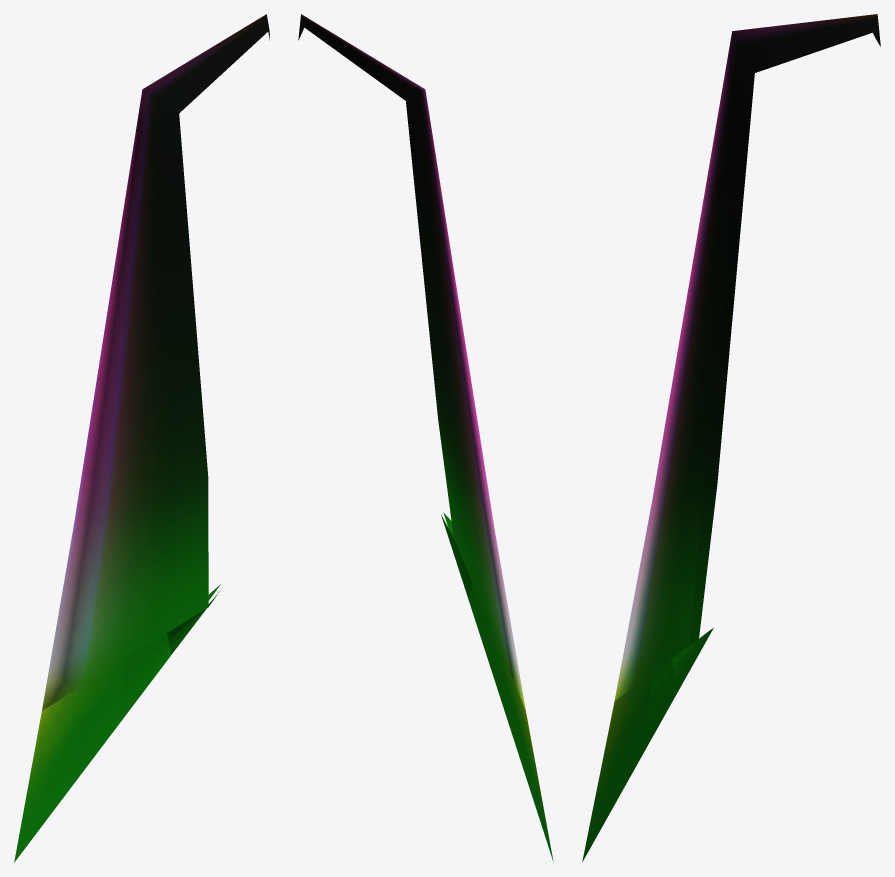
File: Trail7_3.fbx
The picture shows the model from 3 angles, left to right: view 1: azimuth 30°, elevation 25°; view 2: azimuth 150°, elevation 25°; view 3: azimuth 330°, elevation 25°; orthographic projection. The views are drawn at different scales.
Visible parts, largest first — view 1: Eff_Model_Shougun_07_3; view 2: Eff_Model_Shougun_07_3; view 3: Eff_Model_Shougun_07_3.
Part boxes in pixels (x1,y1,x2,y2): Eff_Model_Shougun_07_3: (14, 14, 269, 862); Eff_Model_Shougun_07_3: (298, 14, 553, 861); Eff_Model_Shougun_07_3: (582, 14, 880, 862).
Bounding box in the file's own units: 193 × 567 × 66.86.
